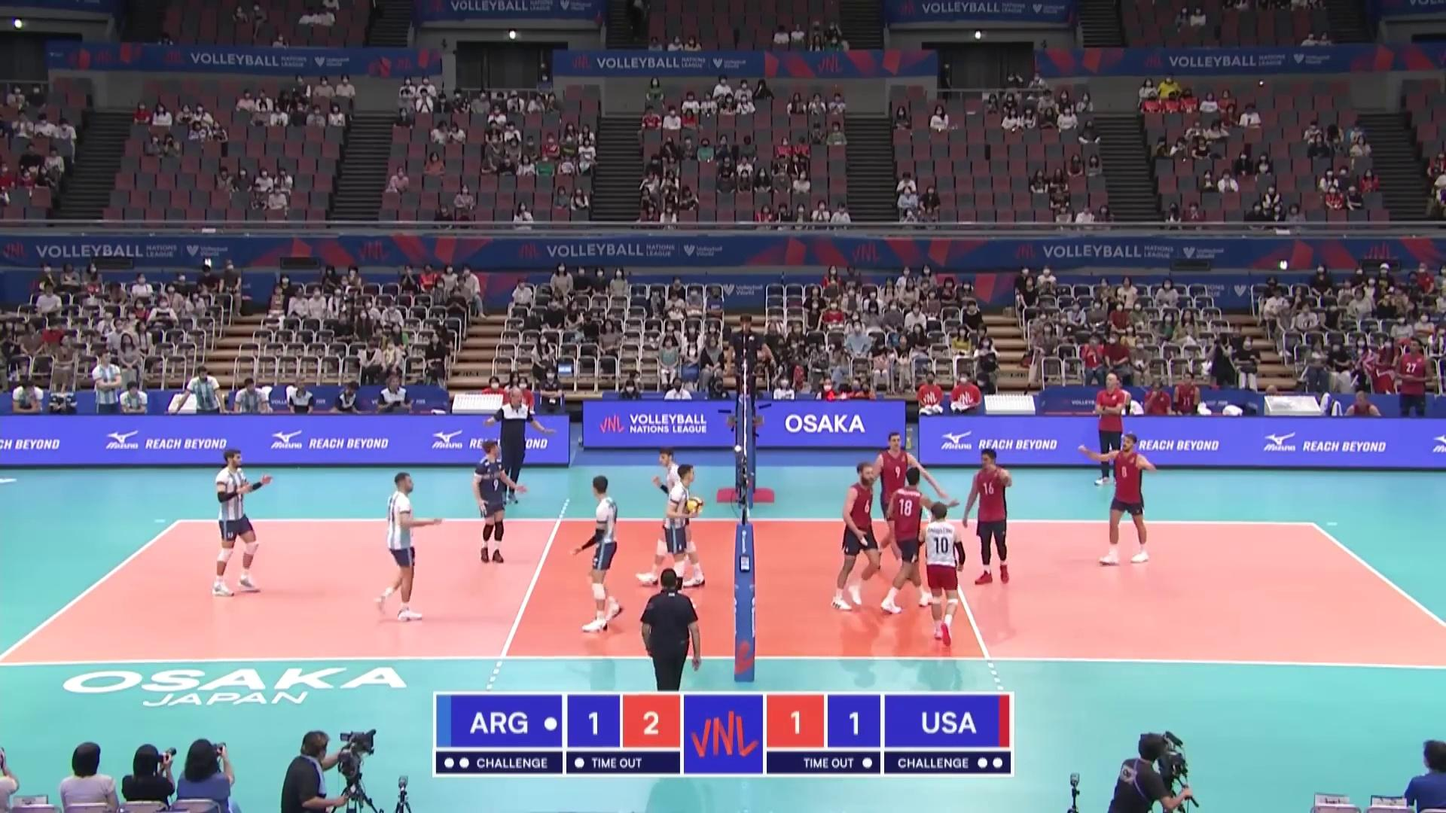player: (872, 432, 940, 571), (207, 449, 268, 599), (638, 448, 704, 585), (1091, 434, 1156, 565), (377, 473, 430, 621), (828, 462, 879, 613), (579, 477, 627, 633), (913, 504, 965, 648), (883, 468, 933, 615), (962, 449, 1012, 586), (472, 440, 519, 564), (661, 464, 699, 610)
refree: (638, 567, 702, 692), (732, 306, 774, 426)
